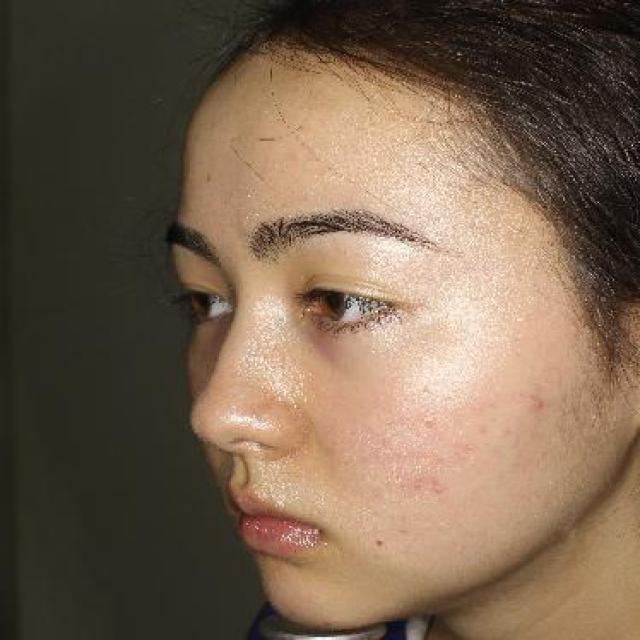dark spot: (424, 474, 442, 484)
papules: (526, 392, 550, 414)
whiteheads: (414, 381, 440, 394), (286, 149, 304, 165), (292, 69, 310, 82), (433, 485, 448, 497), (294, 125, 313, 134)
